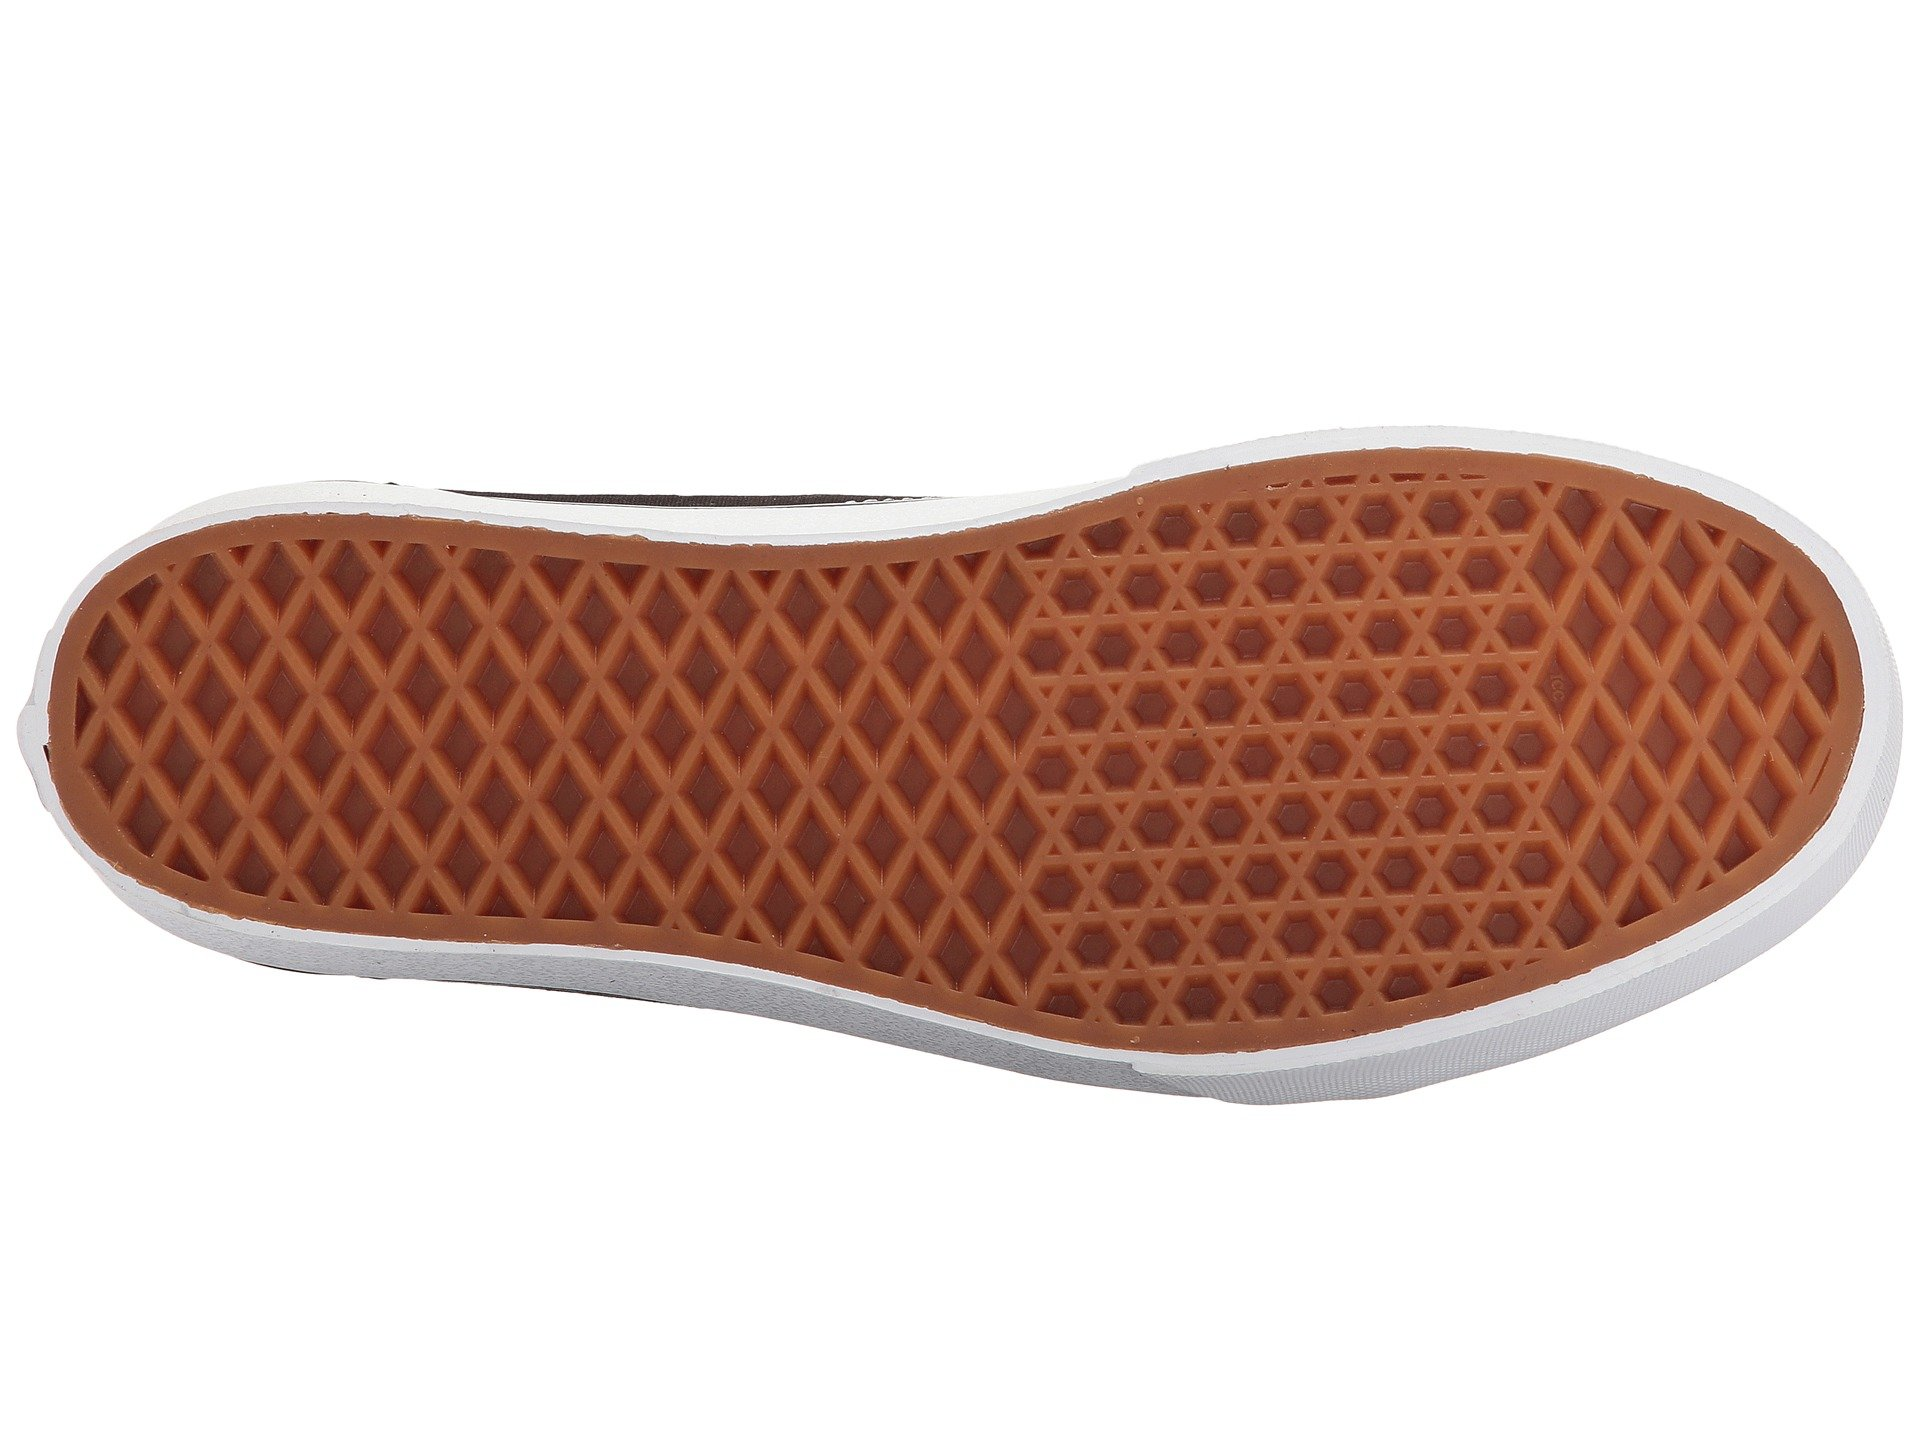polygon: (1255, 315, 1488, 552), (1225, 77, 1457, 312), (1014, 318, 1247, 542), (1023, 130, 1211, 313)
quad: (695, 151, 924, 375), (275, 129, 488, 325), (491, 150, 691, 343), (70, 201, 266, 396), (1521, 95, 1711, 289), (788, 383, 980, 554), (1542, 296, 1720, 476), (274, 330, 455, 492), (509, 348, 664, 498)
text: (1521, 95, 1711, 289)
triangle: (1255, 315, 1488, 552), (1225, 77, 1457, 312), (1014, 318, 1247, 542), (1023, 130, 1211, 313)
